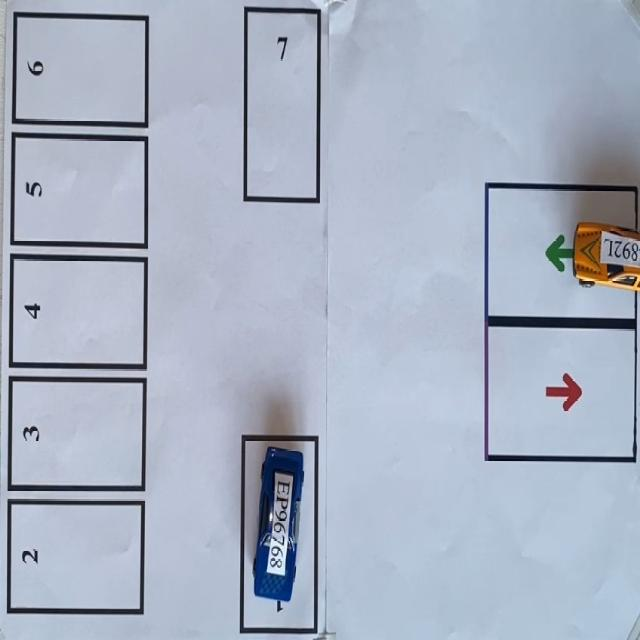car: (253, 446, 303, 610), (573, 222, 639, 291)
